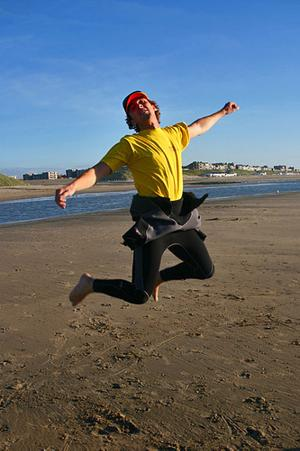person: (59, 88, 240, 311)
